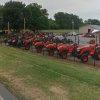Tractor: (35, 27, 100, 61)
